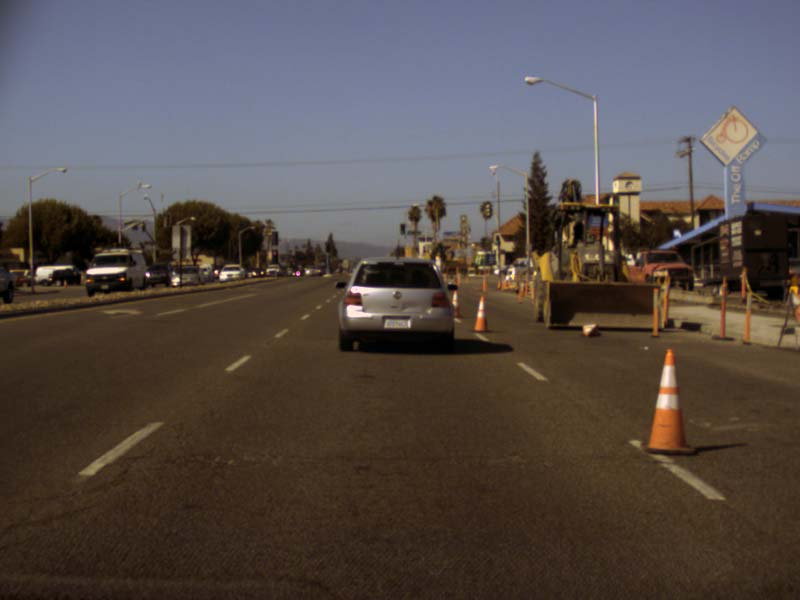Green: (399, 223, 405, 235)
Red: (272, 249, 278, 263)
